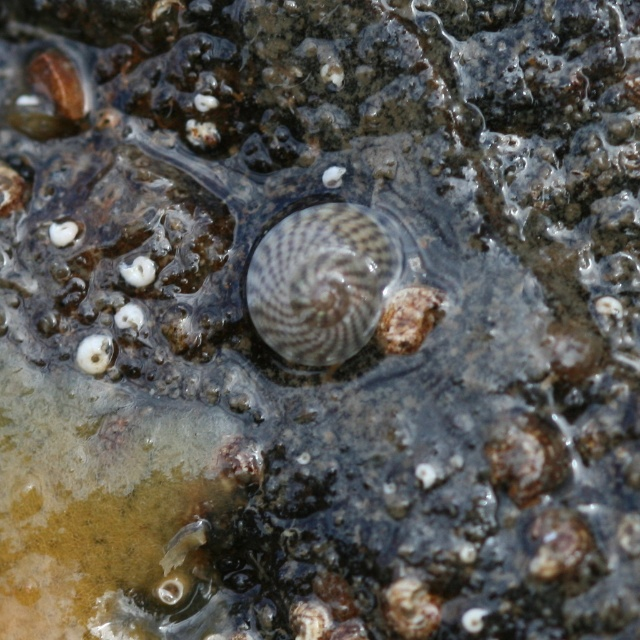Snail: (241, 190, 412, 380)
